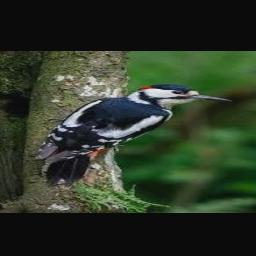Woodpecker: (35, 84, 232, 188)
